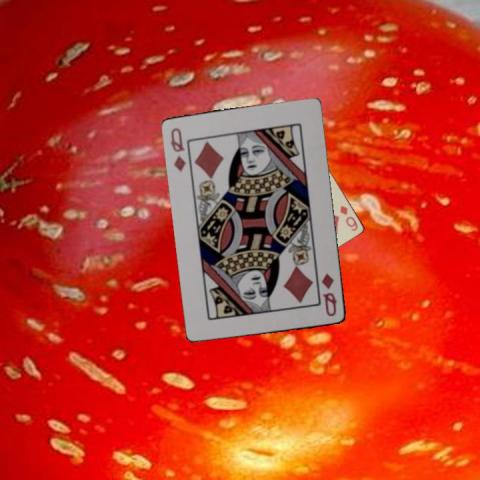6d: (336, 202, 359, 233)
Qd: (168, 125, 188, 172), (319, 271, 338, 318)
